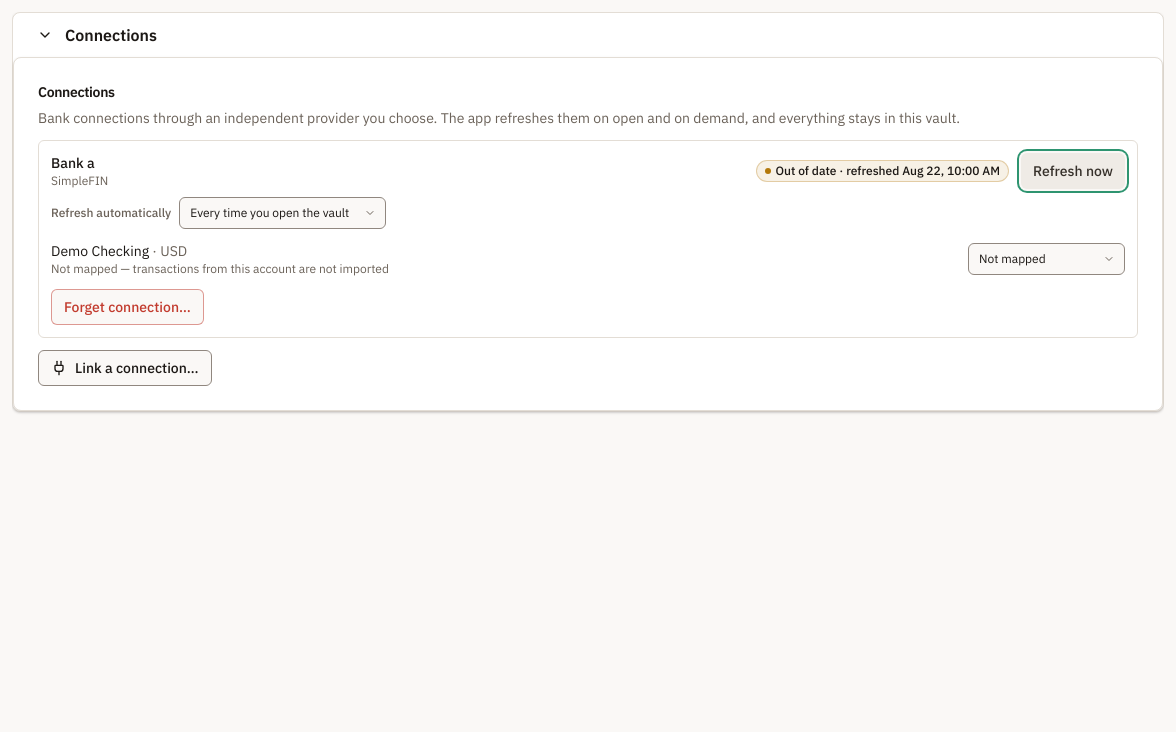
Test case: Connections › focus stays on Refresh now when a failed refresh moves it into the slot
Click the button "Refresh now".
click(1073, 171)  # box x1=1021 y1=153 x2=1125 y2=189
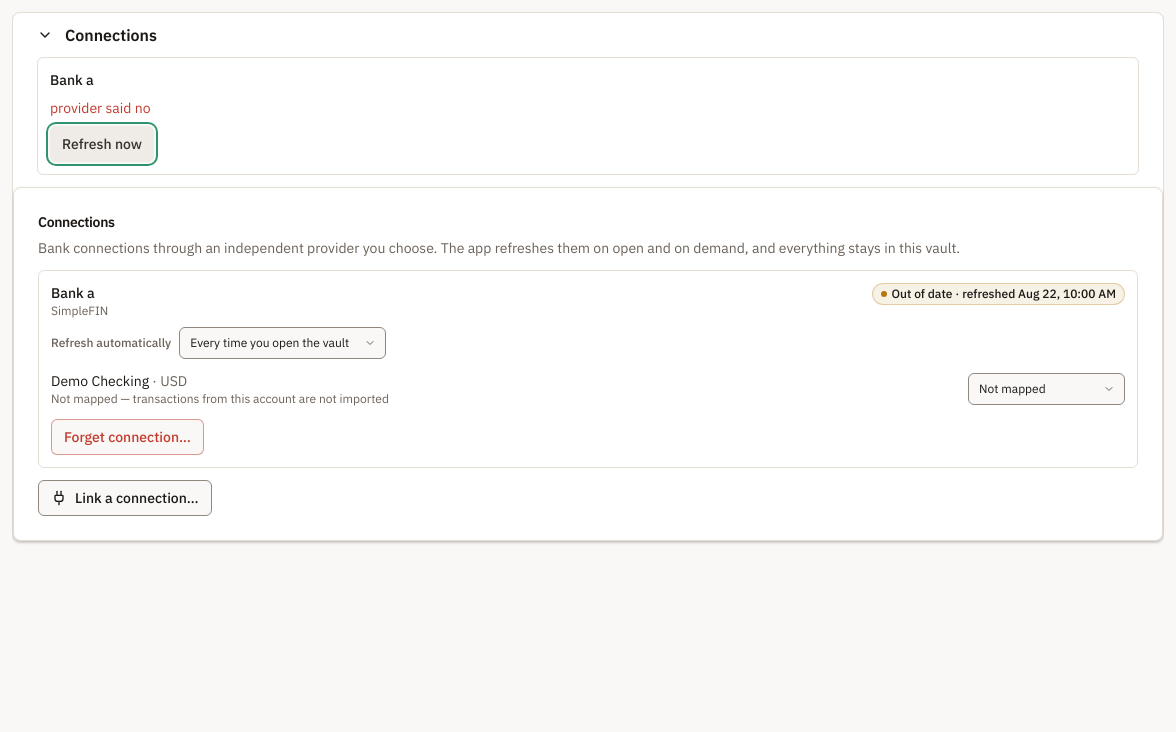
Now the text "provider said no" is shown, box x1=50 y1=99 x2=151 y2=117
